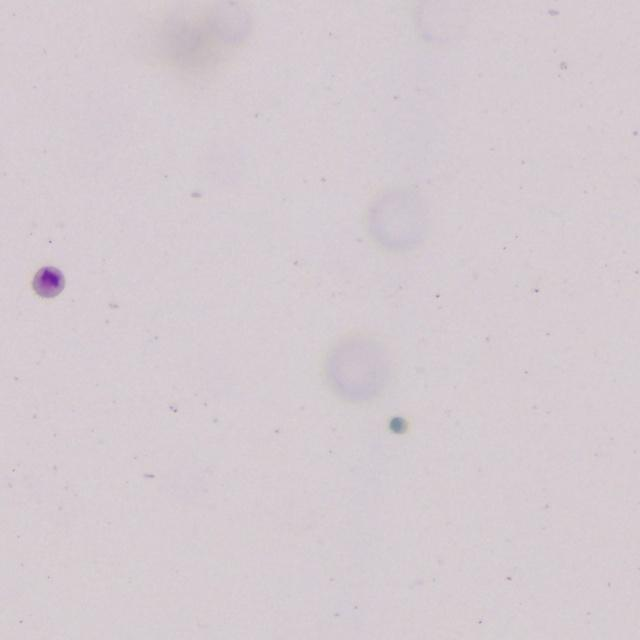intermediate: (33, 267, 64, 297)
non_viable: (389, 416, 408, 433)
